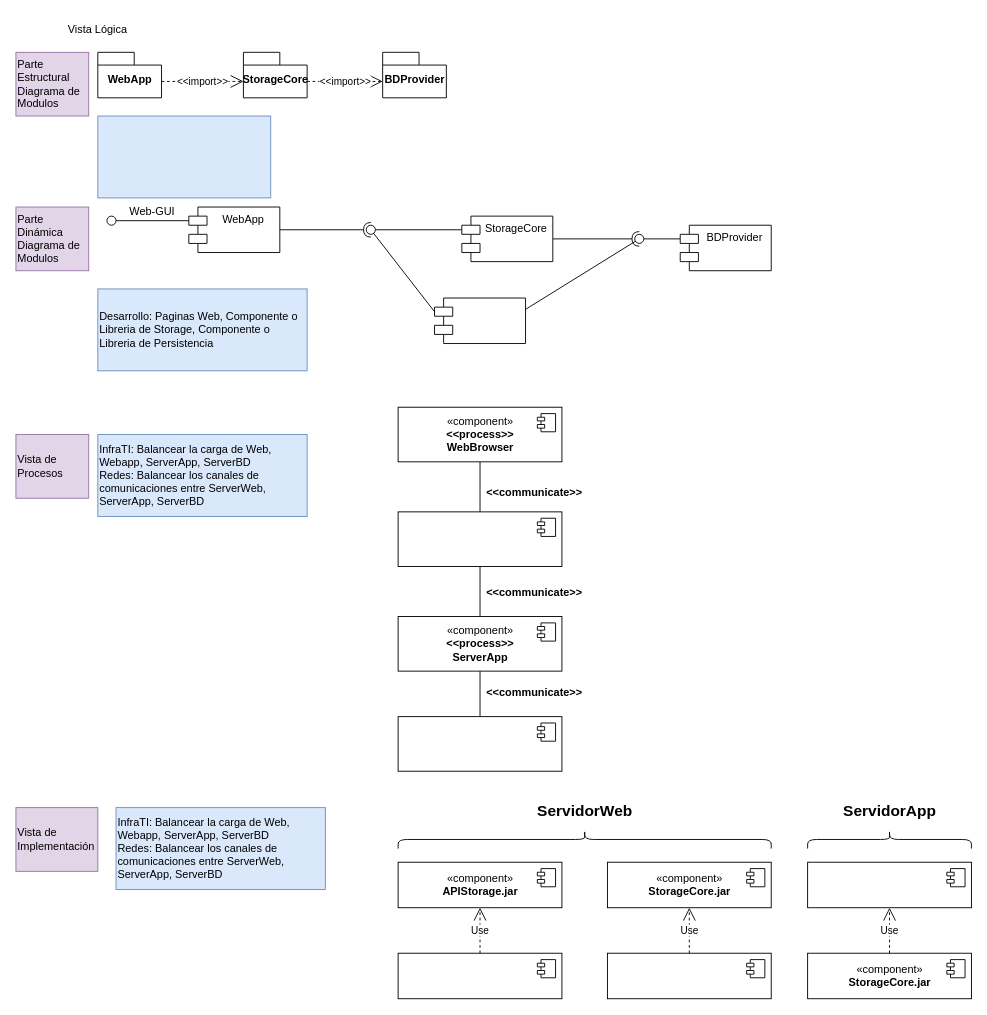
Some shapes in this 987 by 1015 pixel diagram are drawn without their labels. Each missing label, with the centre of its shape:
"InfraTI: 3 tipos de Sistemas o Servidores Desarrollo: WebApp" belongs at pixel 184 156.
"Logger Provider" belongs at pixel 480 320.
"«component» <<process>> ServerBD" belongs at pixel 479 743.
"«component» <<process>> ServerWebApp" belongs at pixel 479 538.
"«component» APIStorage.war" belongs at pixel 689 975.
"«component» BDProvider.jar" belongs at pixel 889 884.
"«component» webapp.war" belongs at pixel 479 975.
